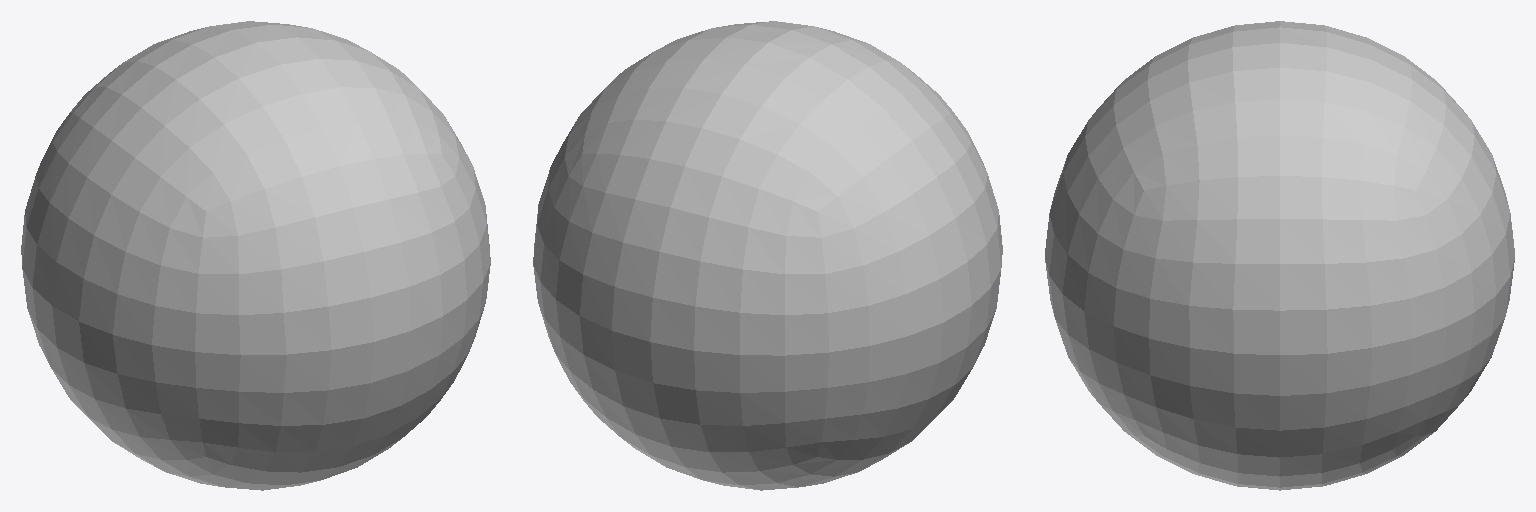
File: Sun.obj
3 renders of one model, left to right at view 1: azimuth 30°, elevation 25°; view 2: azimuth 150°, elevation 25°; view 3: azimuth 270°, elevation 25°, orthographic.
Parts seen in each view (by area): view 1: Sphere; view 2: Sphere; view 3: Sphere.
Part boxes in pixels (bbox=[...]): Sphere: bbox=[21, 21, 490, 490]; Sphere: bbox=[533, 21, 1002, 490]; Sphere: bbox=[1045, 21, 1514, 490].
Bounding box in the file's own units: 2 × 2 × 2.